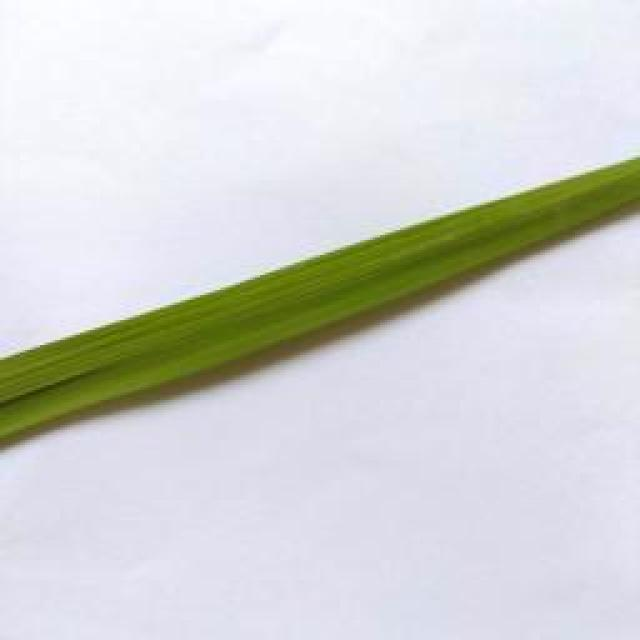Healthy-Plant: (0, 143, 640, 464)
